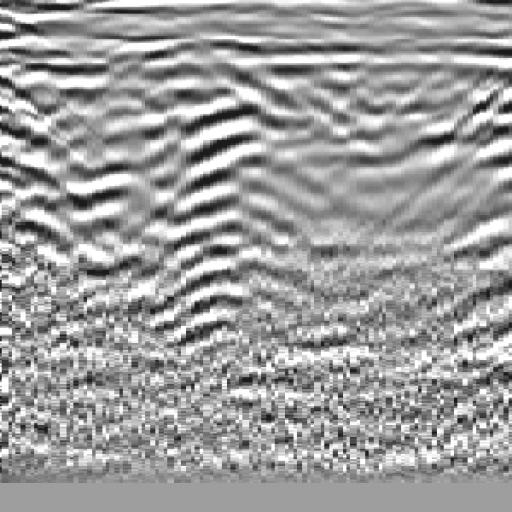metalic: (43, 34, 192, 301)
non-metallic: (152, 35, 300, 301)
nonmetalic: (366, 31, 512, 298)
